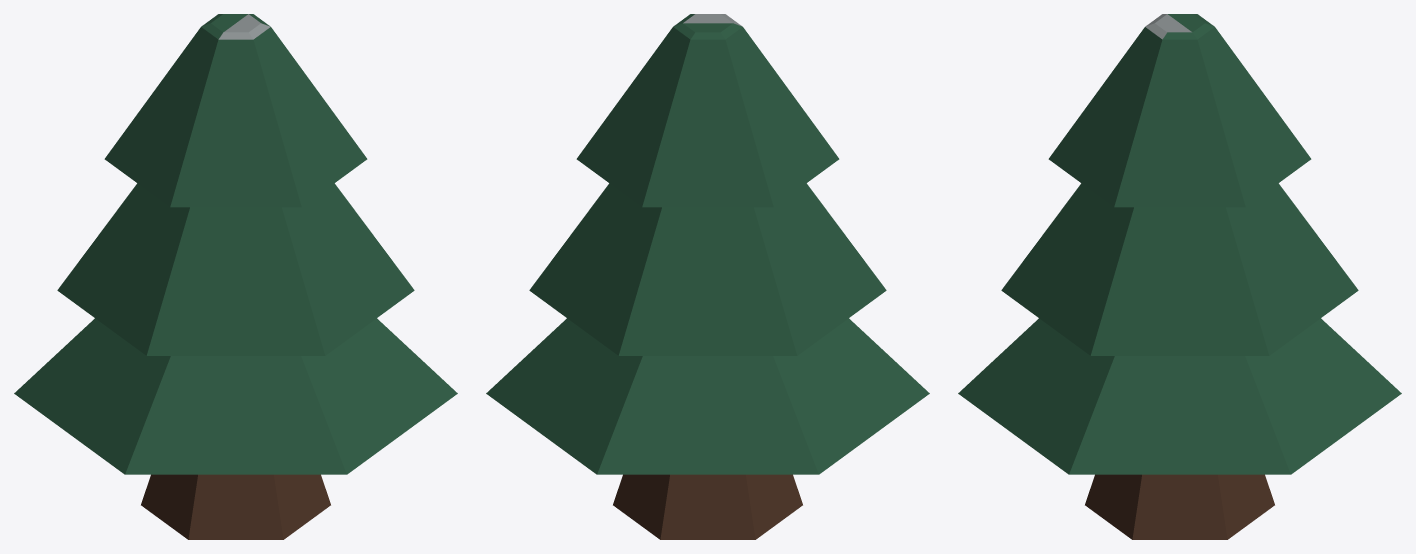
File: pine.fbx
The picture shows the model from 3 angles, left to right: view 1: azimuth 30°, elevation 25°; view 2: azimuth 150°, elevation 25°; view 3: azimuth 270°, elevation 25°; orthographic projection.
Visible parts, largest first — view 1: pine; view 2: pine; view 3: pine.
Part boxes in pixels (<box>): pine: <box>14,14,457,539</box>; pine: <box>486,14,929,539</box>; pine: <box>958,14,1401,539</box>.
Bounding box in the file's own units: 219 × 303 × 253.
